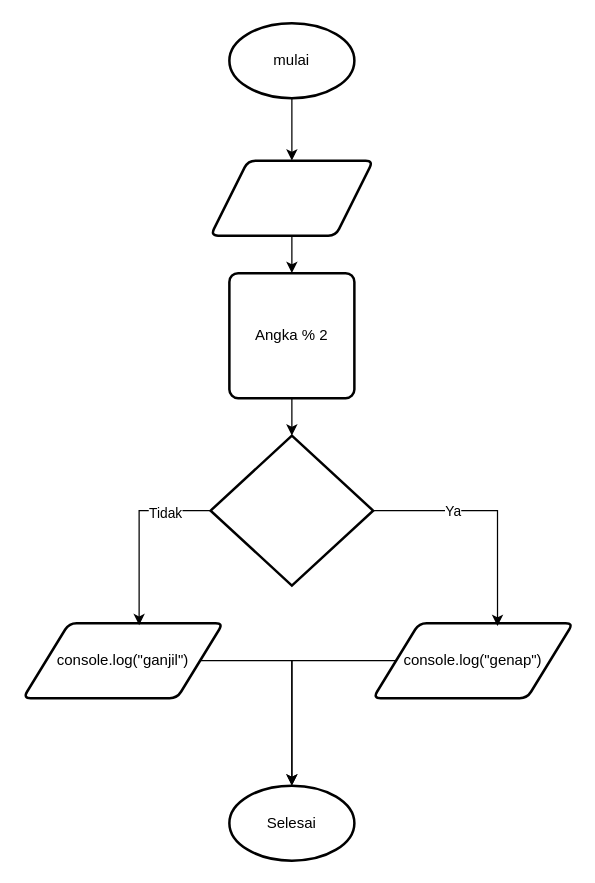
The diagram is 595 pixels wide and 883 high, and some of its shapes have lost their labels. Here are the shapes that lost their labels. From the top down, the centre of each, then its label:
At (x=291, y=197): "Input angka".
At (x=291, y=510): "Hasil operasi sama dengan 0 ?".
